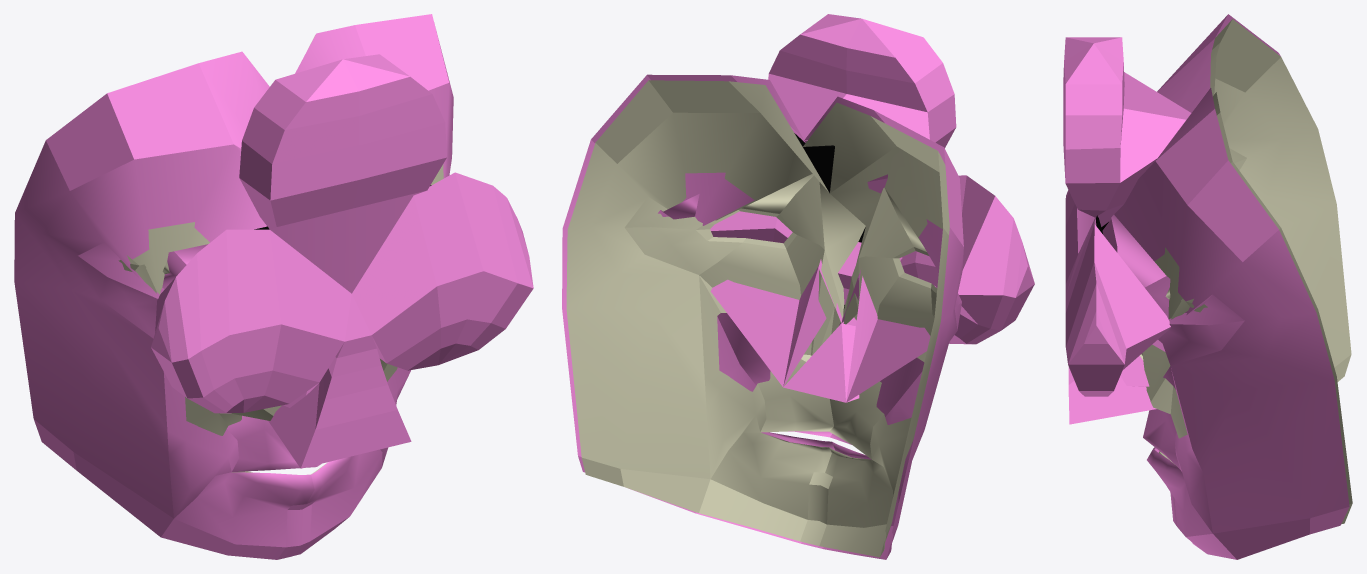
File: Club_Mask_With_Toon.fbx
3 views of the same model, side by side, from view 1: azimuth 30°, elevation 25°; view 2: azimuth 150°, elevation 25°; view 3: azimuth 270°, elevation 25° (orthographic). The views are drawn at different scales.
Parts seen in each view (by area): view 1: Outline_Club, Club_Mask; view 2: Club_Mask, Outline_Club; view 3: Outline_Club, Club_Mask.
Boxes of the visible parts, bbox=[...] form: Outline_Club: bbox=[14, 14, 533, 559]; Club_Mask: bbox=[118, 35, 443, 474]; Club_Mask: bbox=[566, 80, 949, 557]; Outline_Club: bbox=[562, 14, 1034, 559]; Outline_Club: bbox=[1063, 14, 1349, 559]; Club_Mask: bbox=[1095, 19, 1352, 524].
Bounding box in the file's own units: 6.2 × 7.69 × 4.07.
